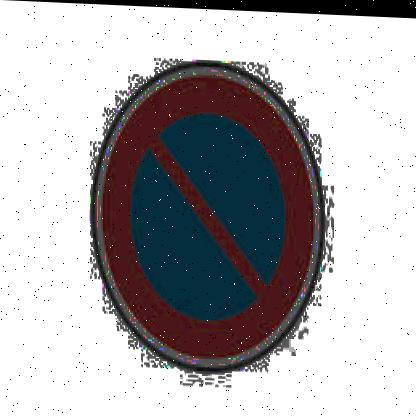No parking: (84, 53, 330, 376)
